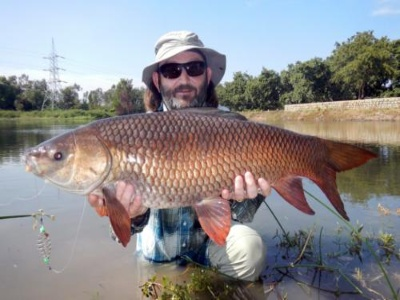rohu: (25, 107, 382, 248)
